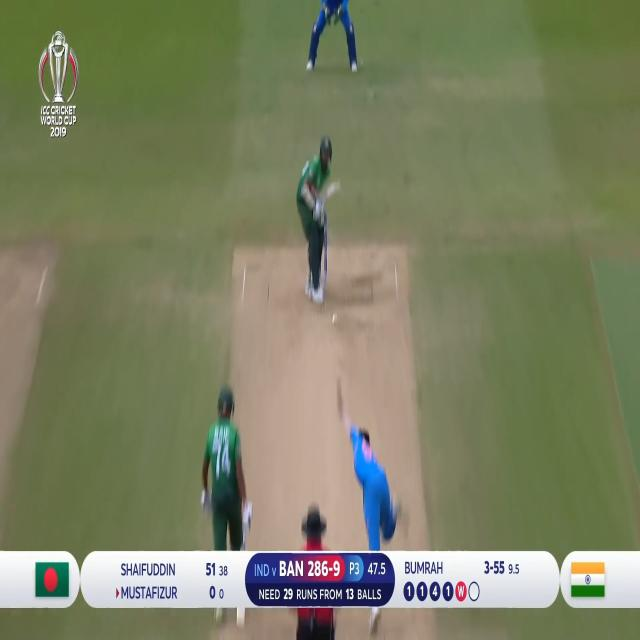Cricket ball: (331, 313, 338, 327)
